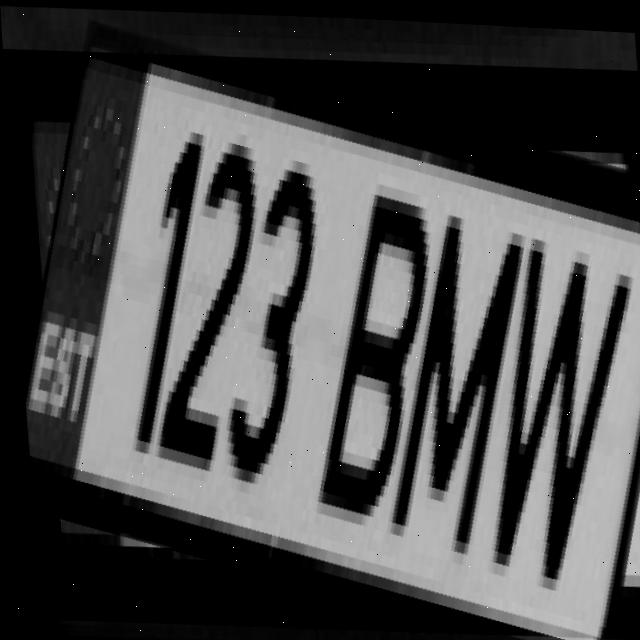LicensePlate: (2, 37, 640, 640)
